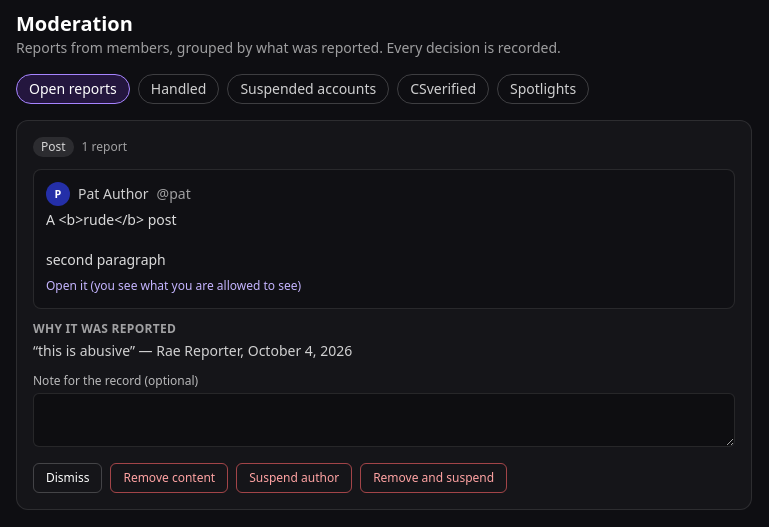
Test: ModerationPage: CSverified badges › gives the badge by username (ignoring an @), says so, and refreshes the list
This screenshot has width=769, height=527.
Click the button "CSverified" at (443, 89), box [397,74,489,104]
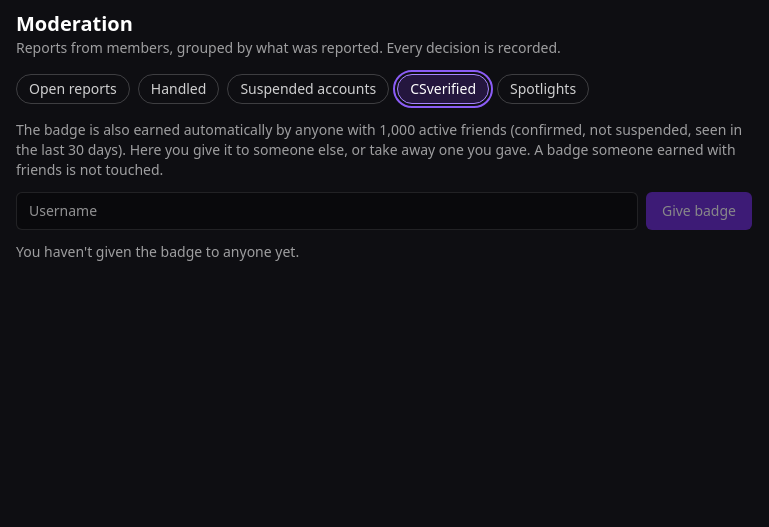
Now the button "Give badge" is disabled, box [646,192,752,230]
Type "  @vee " into the field named "Username to give the badge to" at (327, 211), box [16,192,638,230]
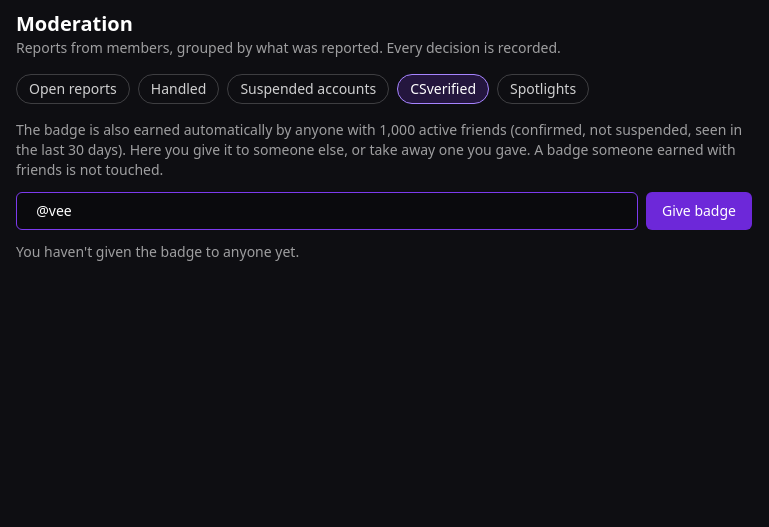
Click the button "Give badge" at (699, 211), box [646,192,752,230]
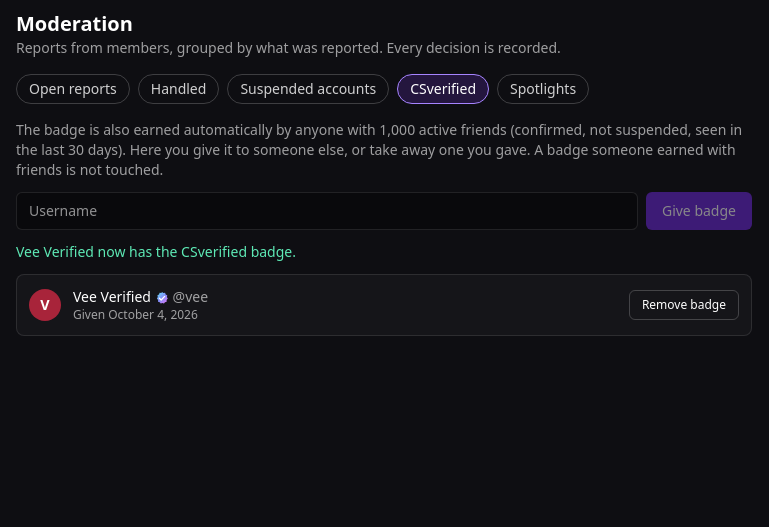
Now the message reads "Vee Verified now has the CSverified badge.", box [16,242,296,261]
Now the link "Vee Verified" is shown, box [73,287,151,306]
Now the field named "Username to give the badge to" is empty, box [16,192,638,230]
